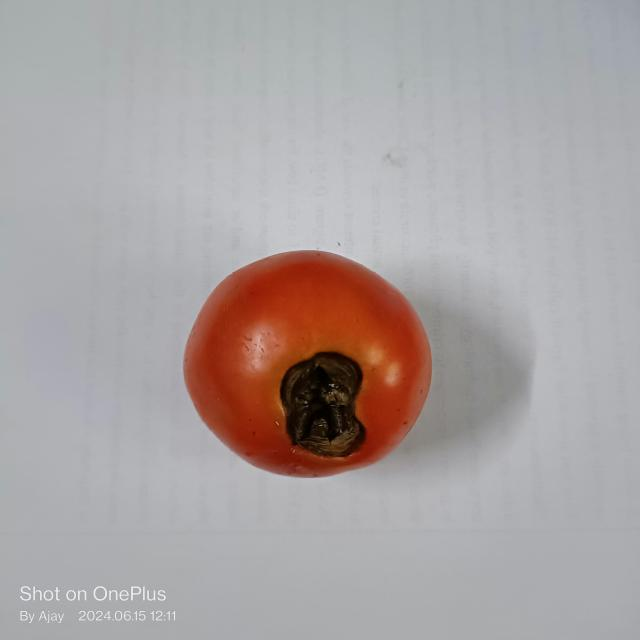Anthrocnose: (276, 348, 367, 458)
